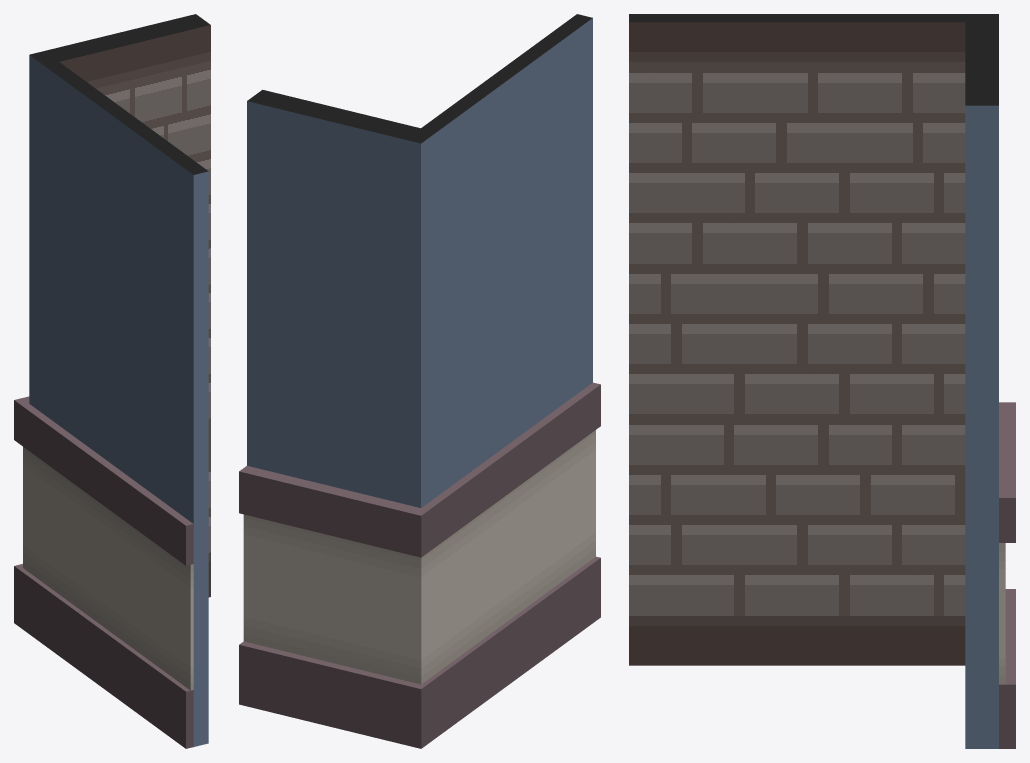
Rendered from mesh_wall_corner_outside.glb.
The picture shows the model from 3 angles, left to right: view 1: azimuth 30°, elevation 25°; view 2: azimuth 150°, elevation 25°; view 3: azimuth 270°, elevation 25°; orthographic projection. The views are drawn at different scales.
Visible parts, largest first — view 1: mesh_wall_corner_outside_mat_wall_inside_1_0, mesh_wall_corner_outside_mat_wall_side_b_0; view 2: mesh_wall_corner_outside_mat_wall_inside_1_0; view 3: mesh_wall_corner_outside_mat_wall_side_b_0, mesh_wall_corner_outside_mat_wall_inside_1_0.
Part boxes in pixels (bbox=[...]): mesh_wall_corner_outside_mat_wall_inside_1_0: bbox=[14, 14, 210, 748]; mesh_wall_corner_outside_mat_wall_side_b_0: bbox=[60, 25, 210, 597]; mesh_wall_corner_outside_mat_wall_inside_1_0: bbox=[239, 14, 600, 748]; mesh_wall_corner_outside_mat_wall_side_b_0: bbox=[629, 22, 965, 665]; mesh_wall_corner_outside_mat_wall_inside_1_0: bbox=[629, 14, 1015, 748].
Bounding box in the file's own units: 1.1 × 3.46 × 1.89.
2 materials, 2 textured.
